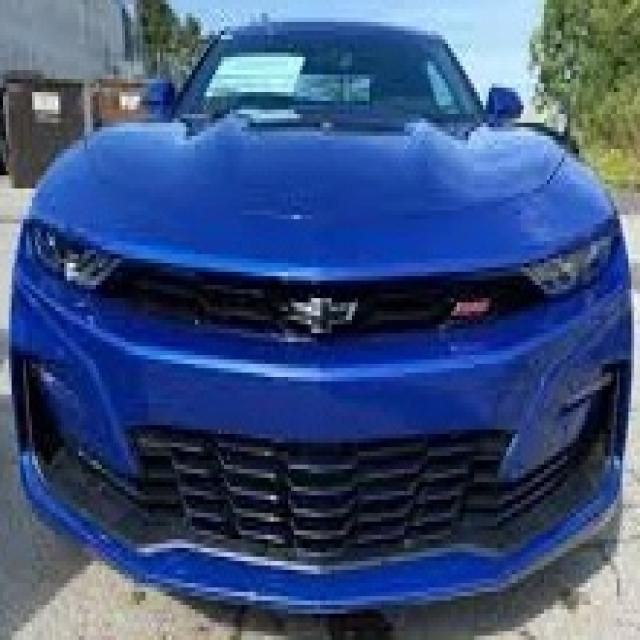blue: (10, 15, 636, 606)
